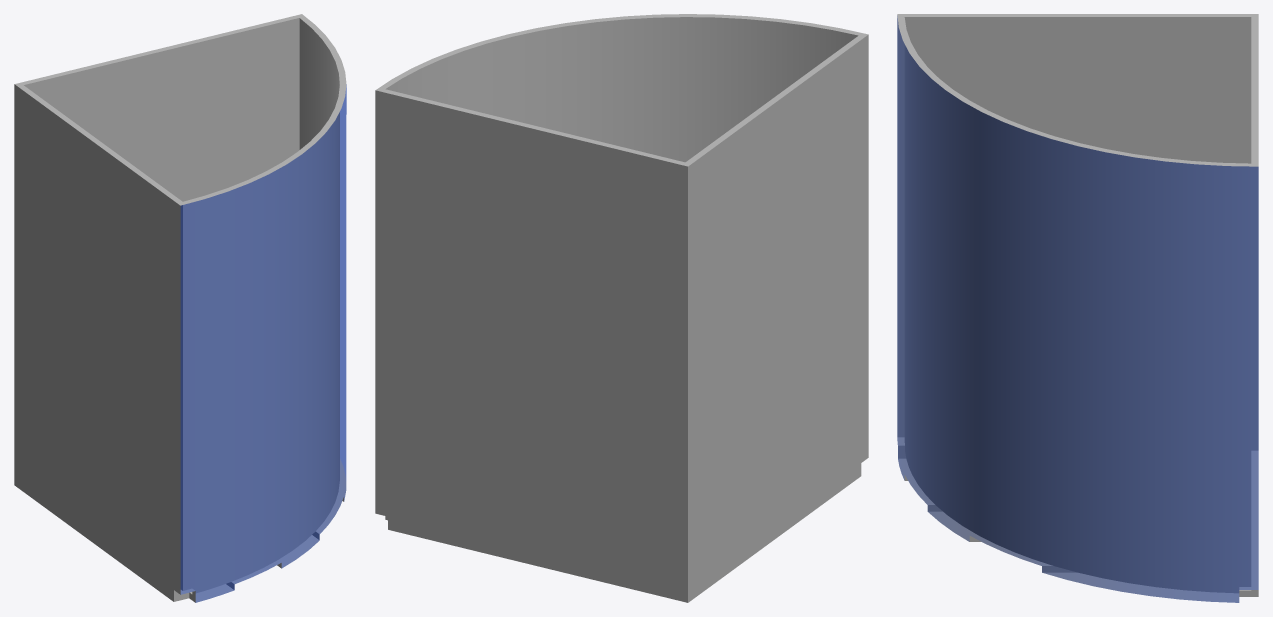
Rendered from Cuerpo 1.glb.
3 renders of one model, left to right at view 1: azimuth 30°, elevation 25°; view 2: azimuth 150°, elevation 25°; view 3: azimuth 270°, elevation 25°, orthographic. The views are drawn at different scales.
Visible parts, largest first — view 1: Sólido1; view 2: Sólido1; view 3: Sólido1.
Part boxes in pixels (x1=…): Sólido1: x1=14, y1=14, x2=346, y2=602; Sólido1: x1=375, y1=14, x2=868, y2=602; Sólido1: x1=897, y1=14, x2=1258, y2=602.
Size of the model in its own units: 0.15 by 0.2 by 0.15.
